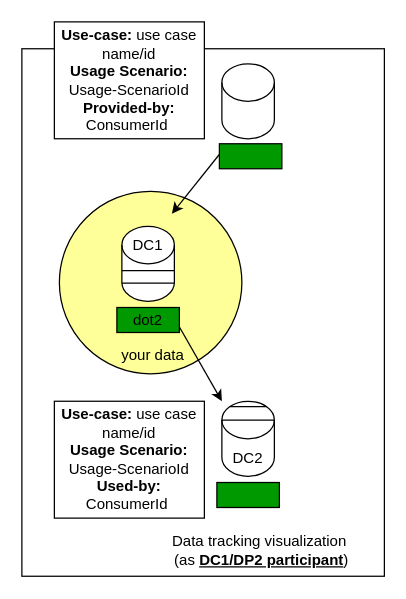
This 406x599 diagram has some shape labels left out. The shapes that lost their labels are listed below. From the top down, each one's centre as x and y in pixels, then its label:
(247,100): DP1
(250,155): dot1
(247,494): dot3
